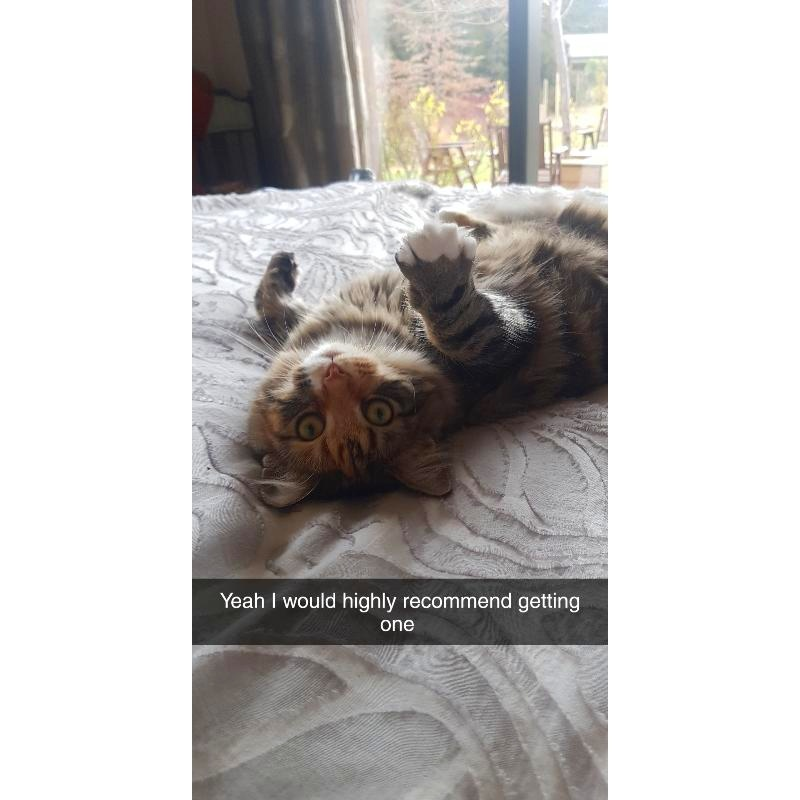red: (248, 198, 608, 514)
